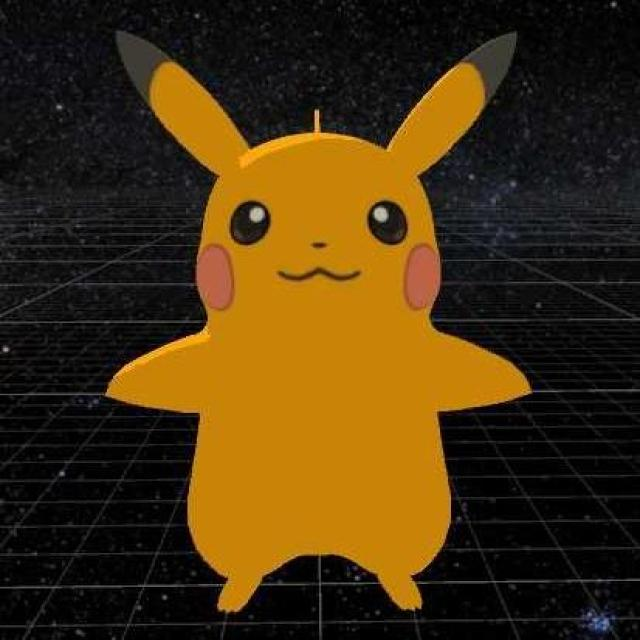pikachu: (106, 24, 530, 614)
